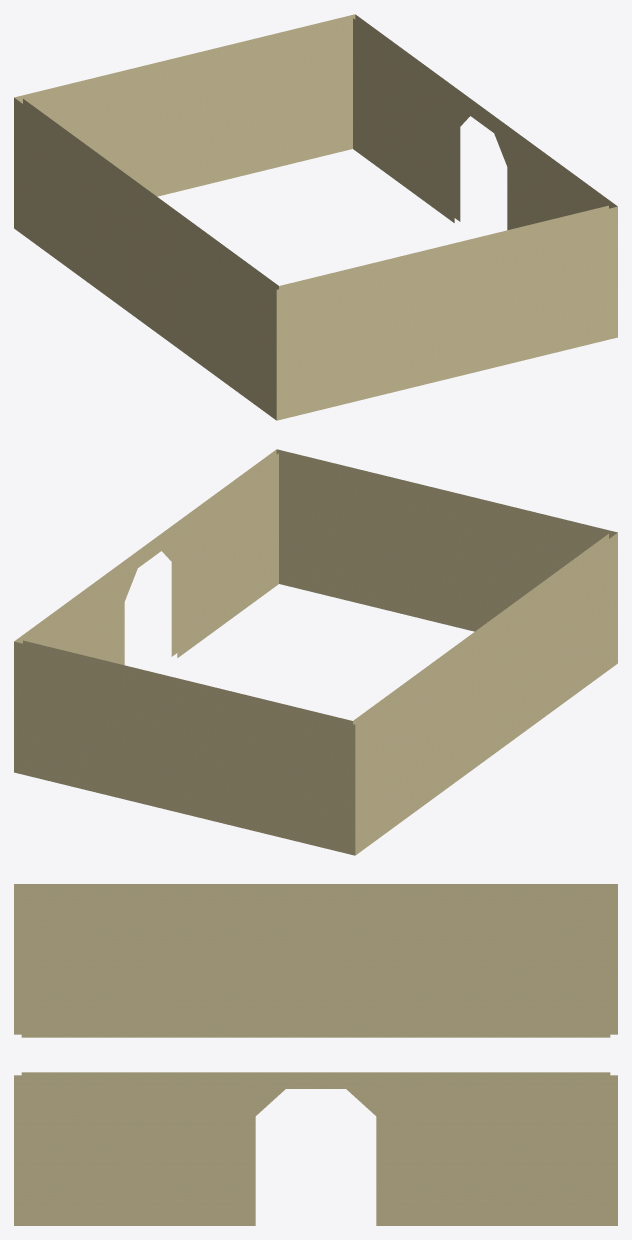
File: room1wall.fbx
The picture shows the model from 3 angles, top to bottom: view 1: azimuth 30°, elevation 25°; view 2: azimuth 150°, elevation 25°; view 3: azimuth 270°, elevation 25°; orthographic projection. The views are drawn at different scales.
Visible parts, largest first — view 1: polySurface18, polySurface19, polySurface16, polySurface17; view 2: polySurface16, polySurface19, polySurface18, polySurface17; view 3: polySurface19, polySurface17.
Part boxes in pixels (bbox=[...]): polySurface18: bbox=[276, 205, 617, 420]; polySurface19: bbox=[14, 98, 278, 420]; polySurface16: bbox=[14, 14, 355, 196]; polySurface17: bbox=[353, 14, 617, 230]; polySurface16: bbox=[14, 640, 355, 855]; polySurface19: bbox=[353, 533, 617, 855]; polySurface18: bbox=[276, 449, 617, 631]; polySurface17: bbox=[14, 449, 278, 665]; polySurface19: bbox=[14, 884, 617, 1037]; polySurface17: bbox=[14, 1072, 617, 1225].
Bounding box in the file's own units: 6.57 × 2.41 × 8.75.
Materials: 1 (1 with a texture image).
